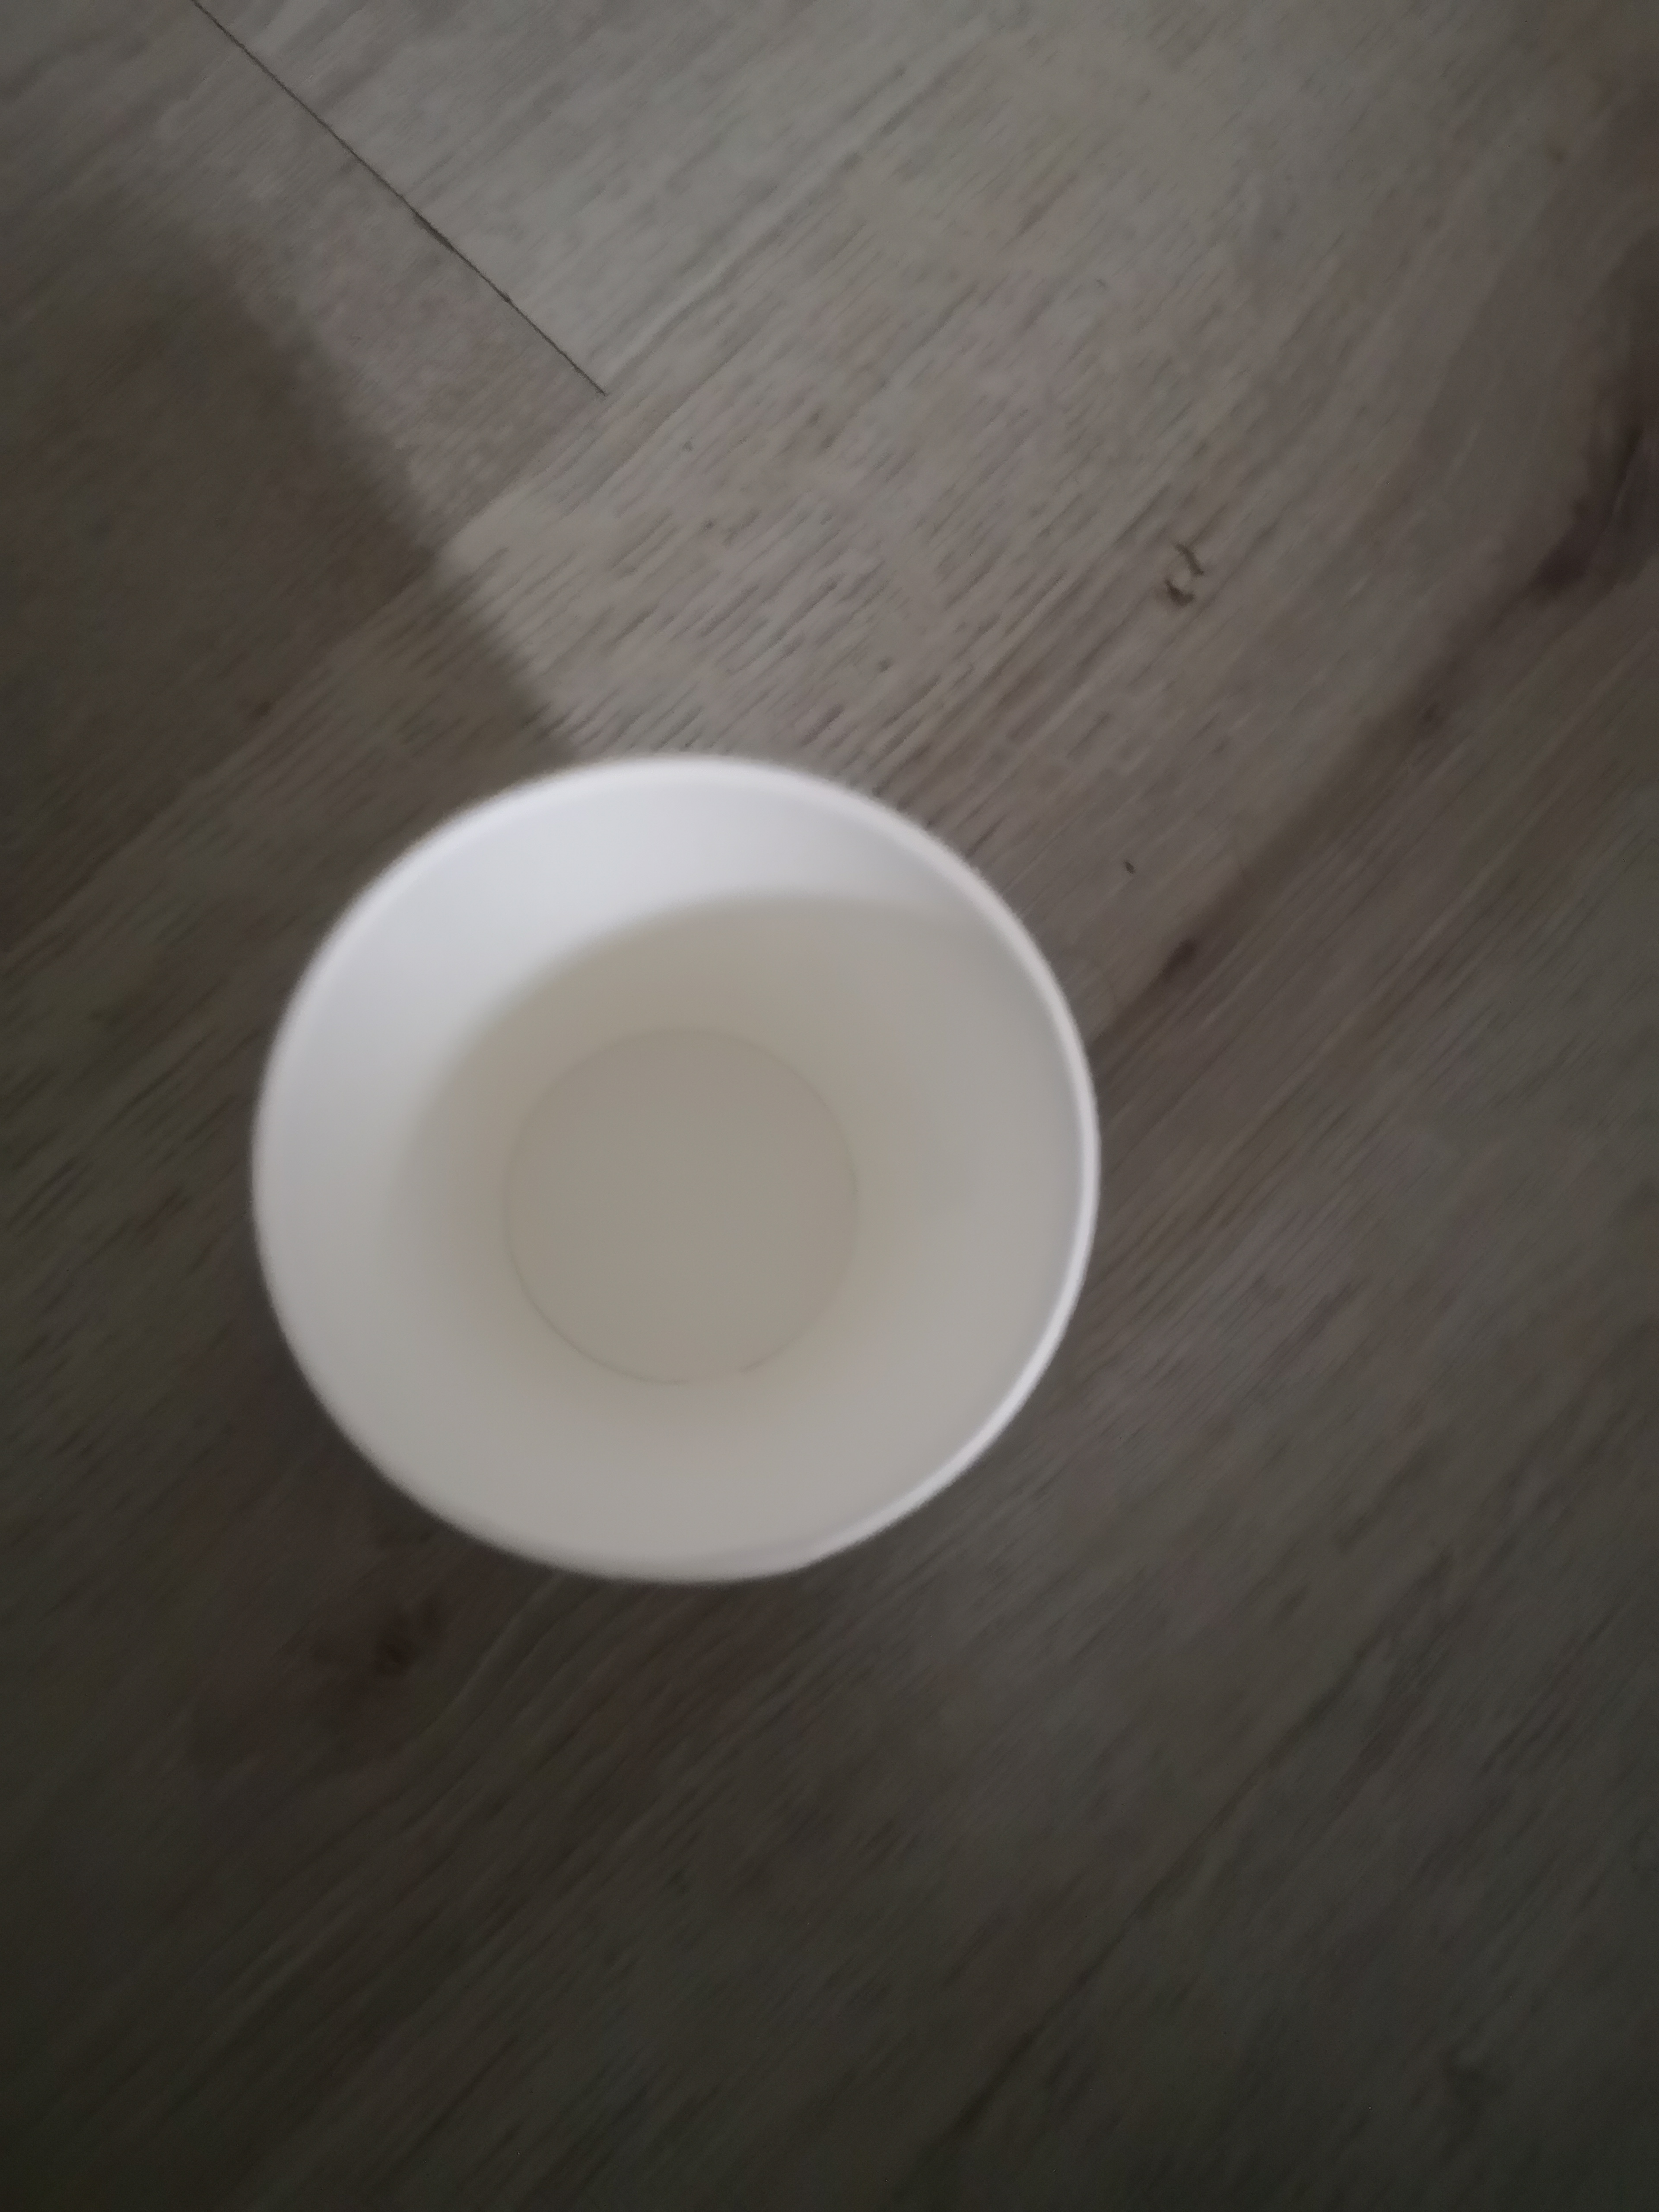cup: (221, 721, 1155, 1639)
